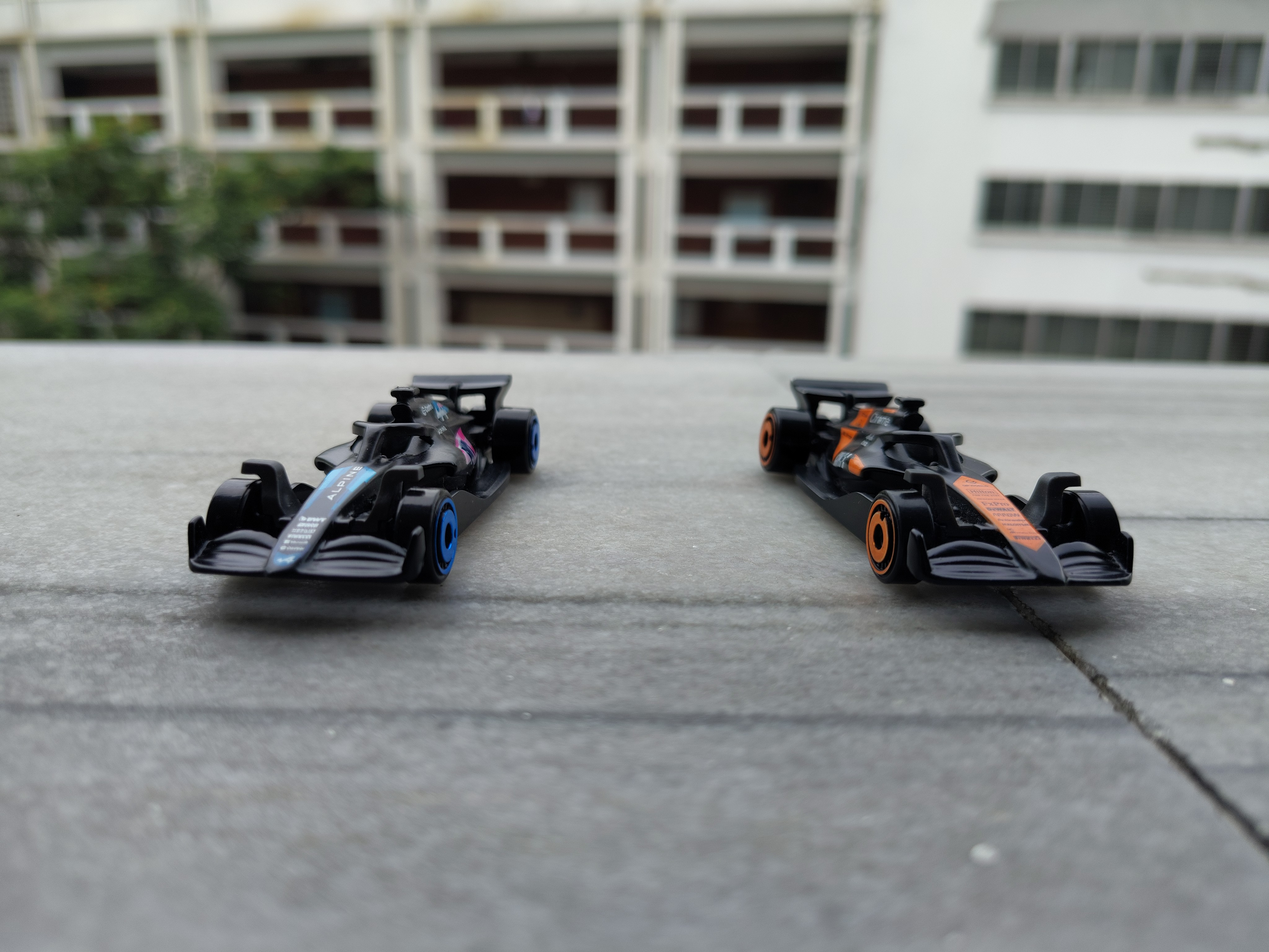Alpine A524: (91, 260, 666, 666)
McLaren MCL40: (678, 277, 1187, 705)
